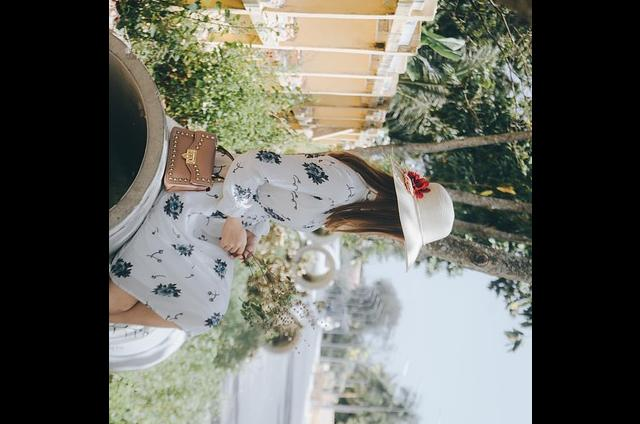Non_Gorille: (108, 0, 517, 414)
